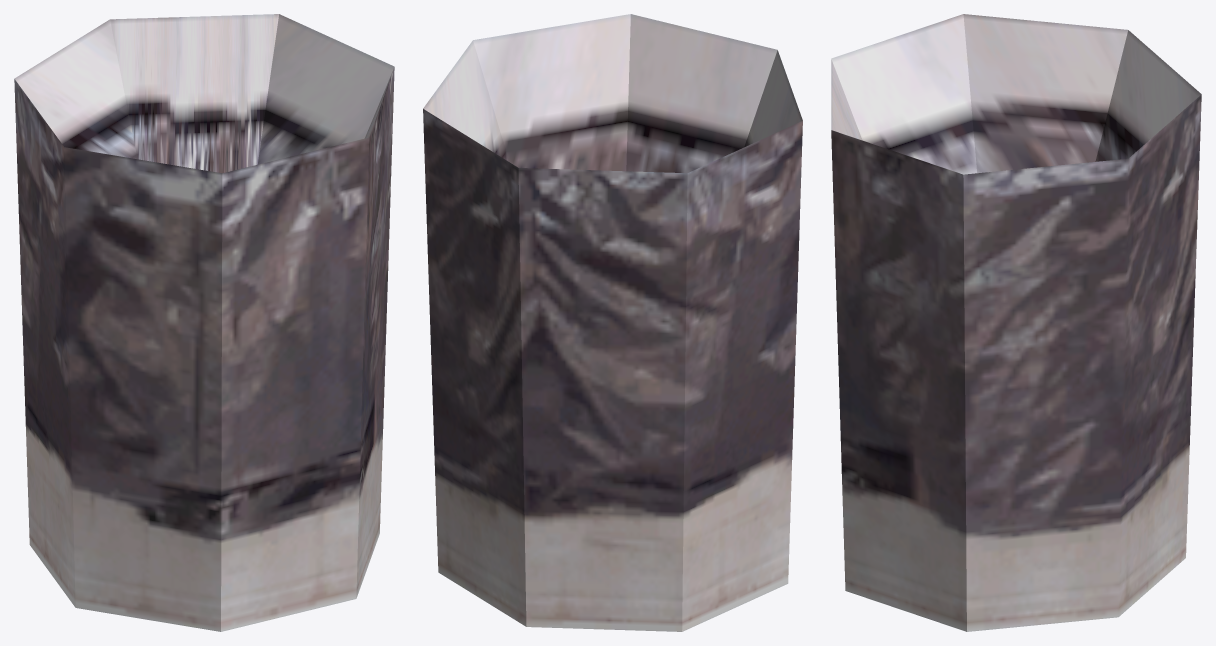
The model's file is binnt14_la.obj.
The picture shows the model from 3 angles, left to right: view 1: azimuth 30°, elevation 25°; view 2: azimuth 150°, elevation 25°; view 3: azimuth 270°, elevation 25°; orthographic projection.
Visible parts, largest first — view 1: BinNt14_LA; view 2: BinNt14_LA; view 3: BinNt14_LA.
Boxes of the visible parts, bbox=[...] form: BinNt14_LA: bbox=[14, 14, 394, 631]; BinNt14_LA: bbox=[423, 14, 802, 631]; BinNt14_LA: bbox=[831, 14, 1201, 631].
Size of the model in its own units: 0.6824 by 0.9188 by 0.6653.
